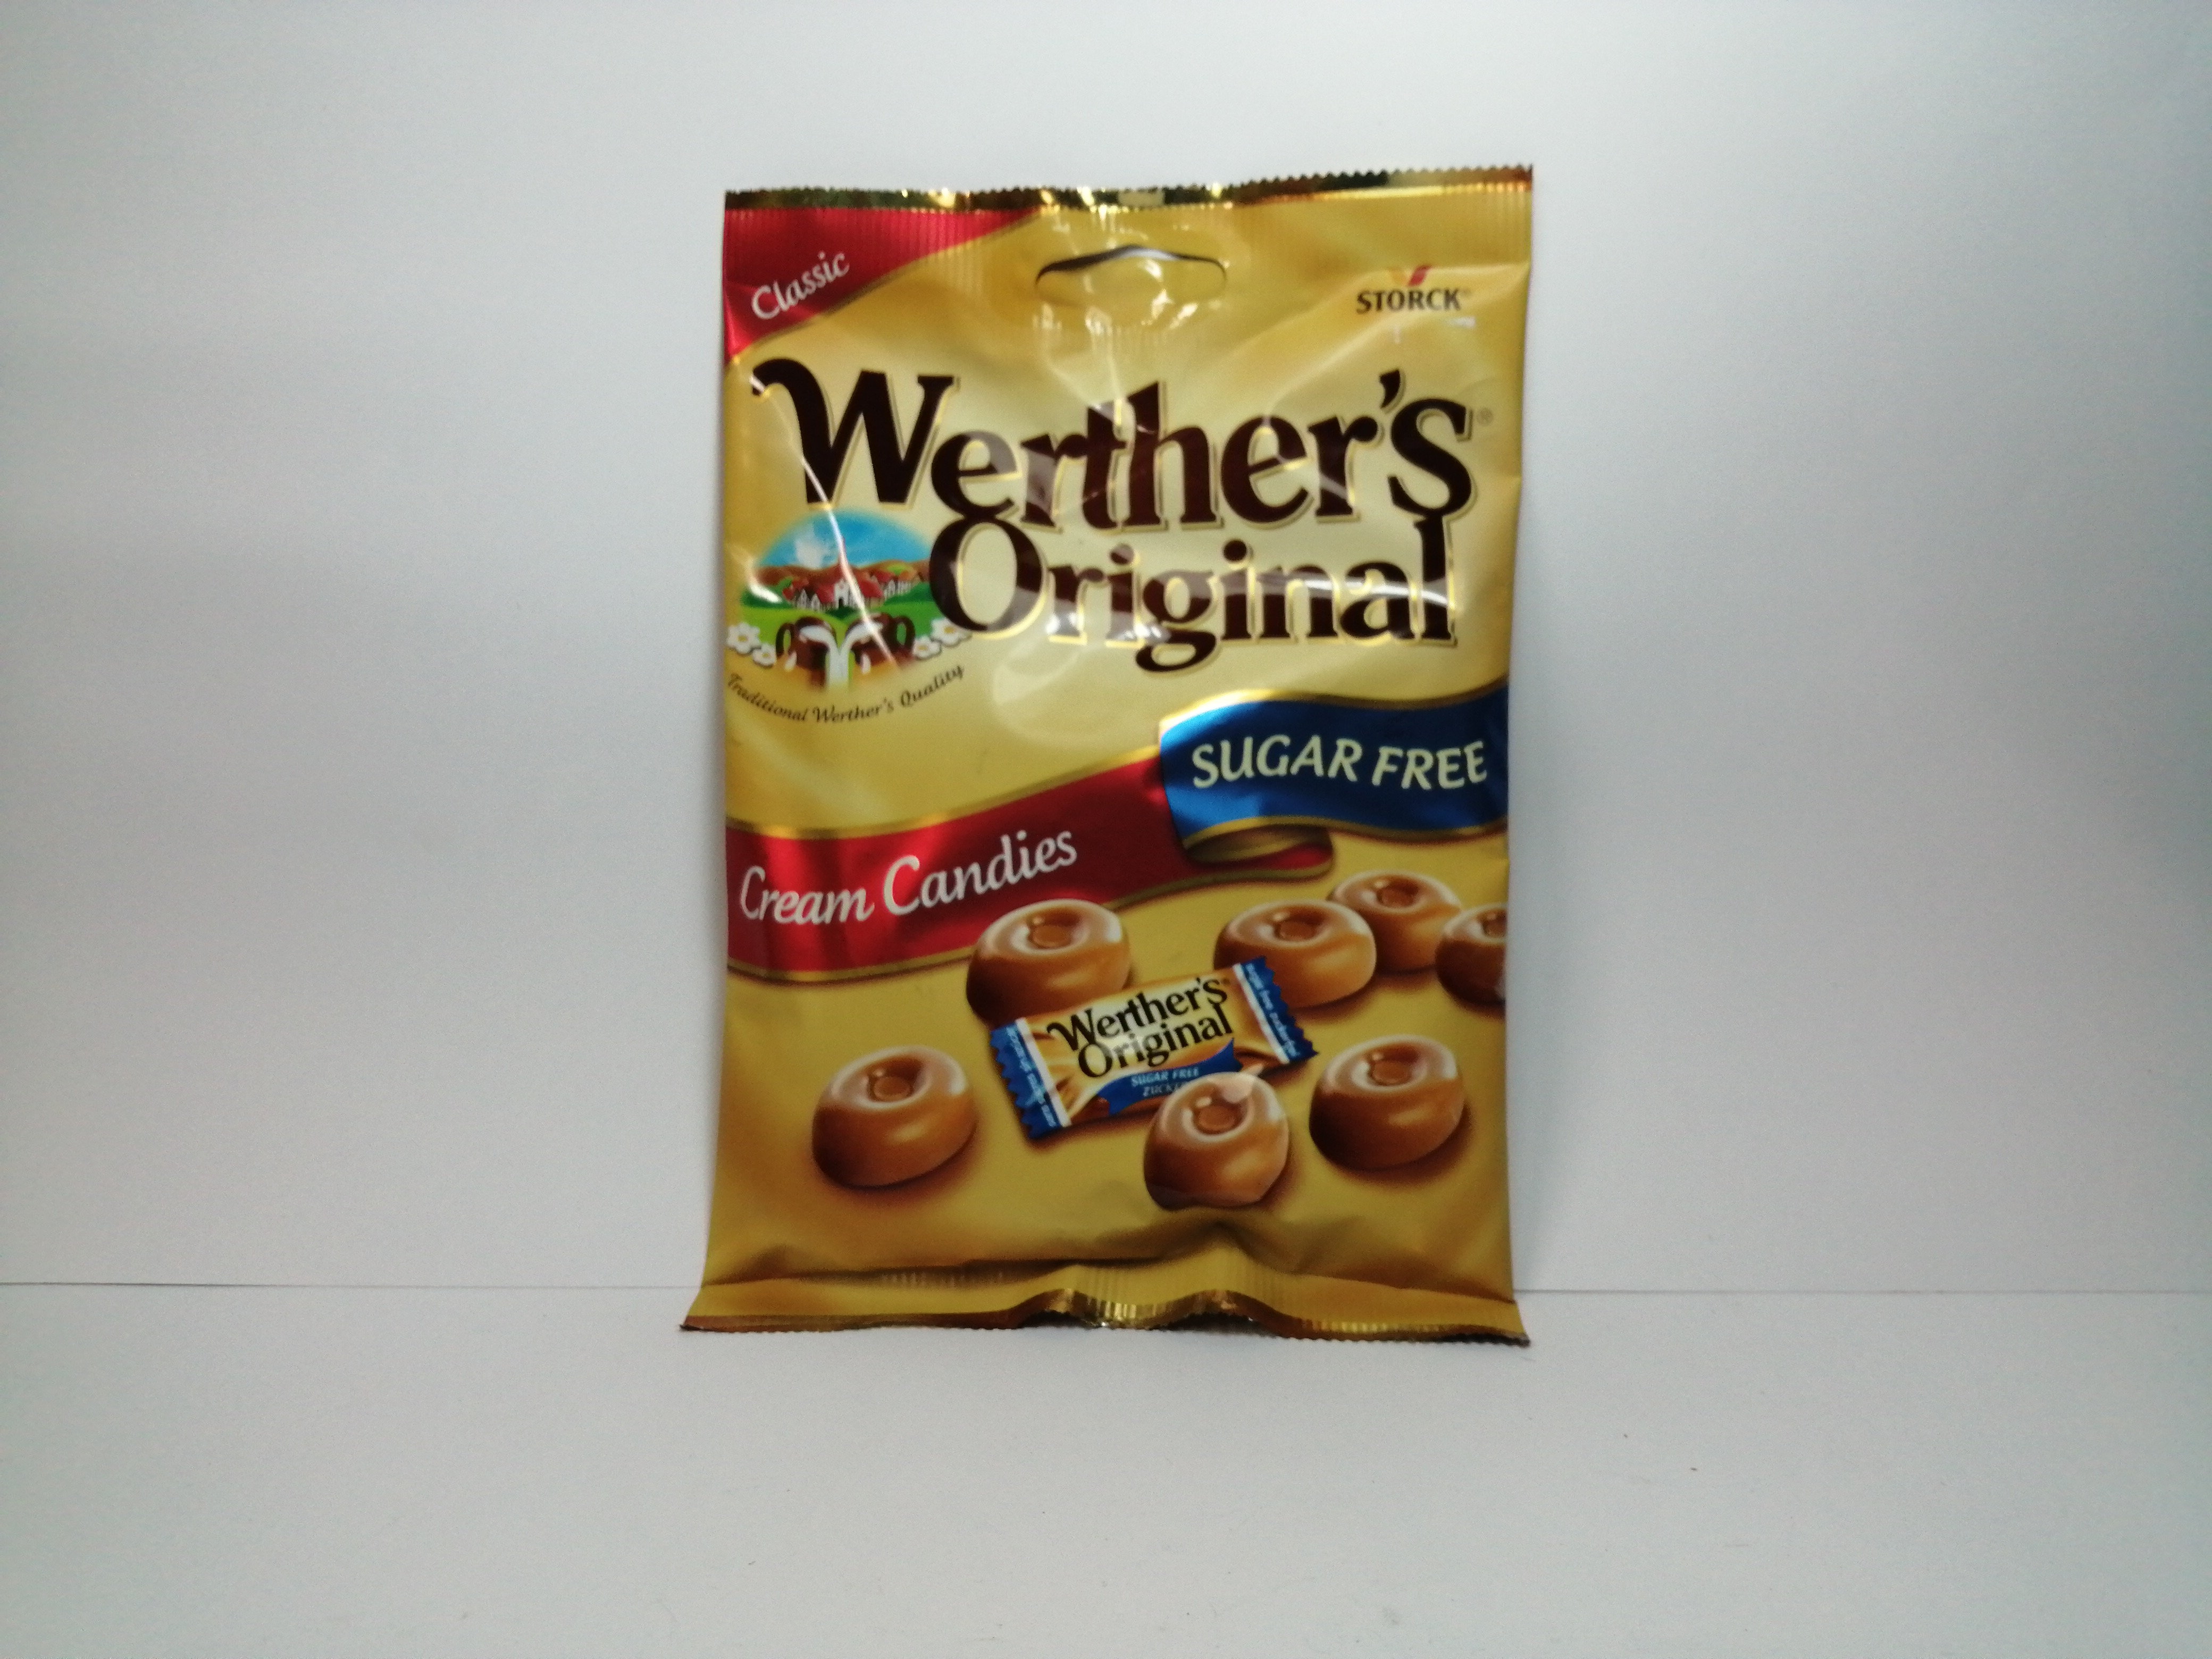dulces: (697, 181, 1533, 1347)
